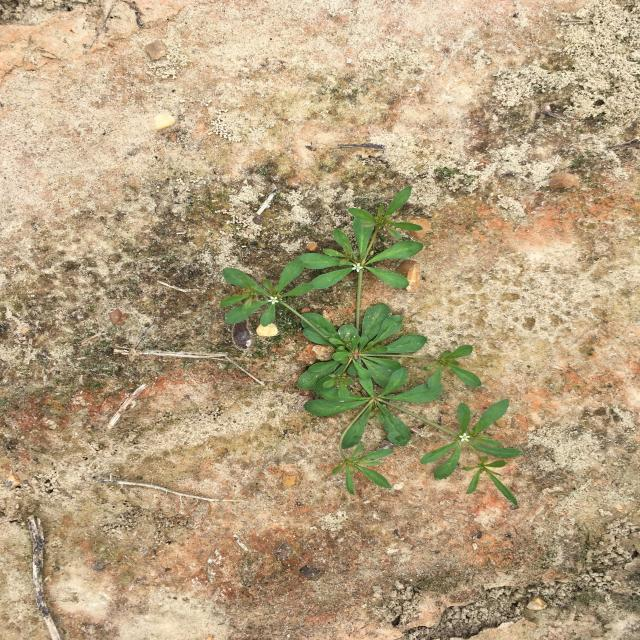Carpetweed: (219, 185, 524, 506)
